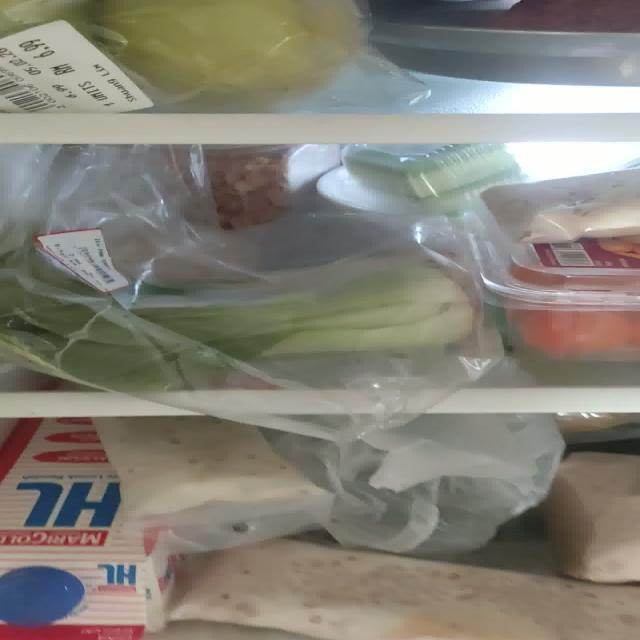apple: (0, 0, 365, 114)
pakchoy: (0, 268, 472, 391)
tempeh: (165, 537, 640, 639), (91, 417, 319, 518)
